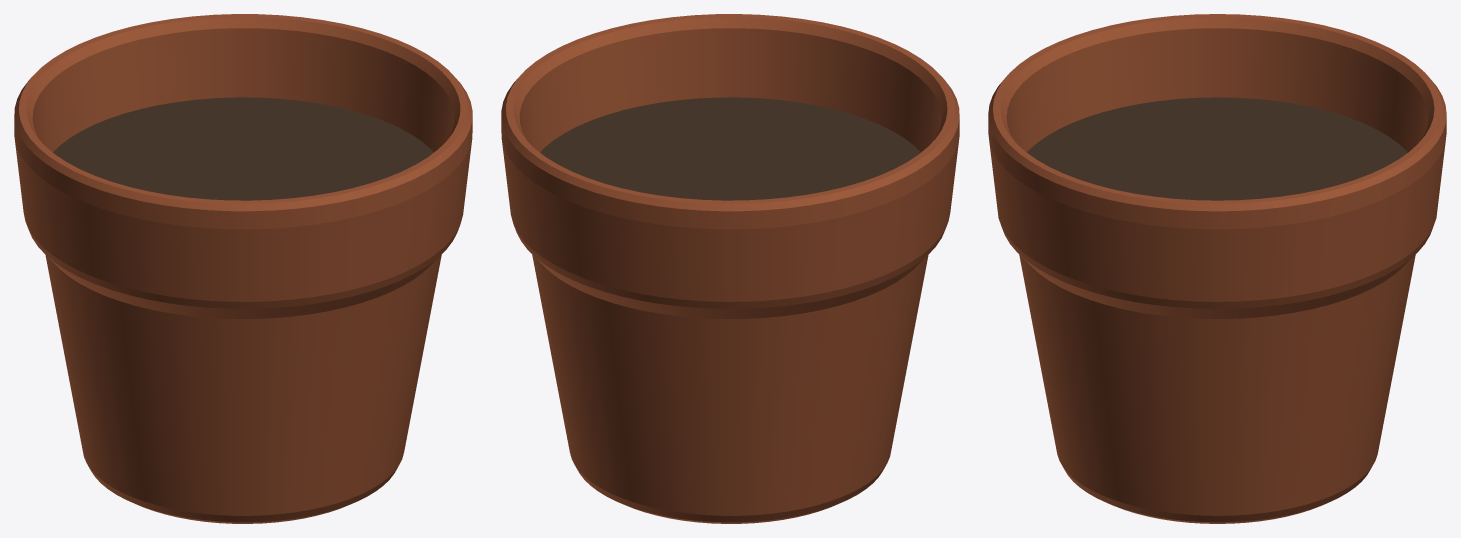
The picture shows the model from 3 angles, left to right: view 1: azimuth 30°, elevation 25°; view 2: azimuth 150°, elevation 25°; view 3: azimuth 270°, elevation 25°; orthographic projection.
Visible parts, largest first — view 1: flowerpot; view 2: flowerpot; view 3: flowerpot.
Part boxes in pixels (x1,y1,x2,y2): flowerpot: (14,14,472,523); flowerpot: (501,14,959,523); flowerpot: (988,14,1446,523).
Size of the model in its own units: 0.2991 by 0.256 by 0.2991.
